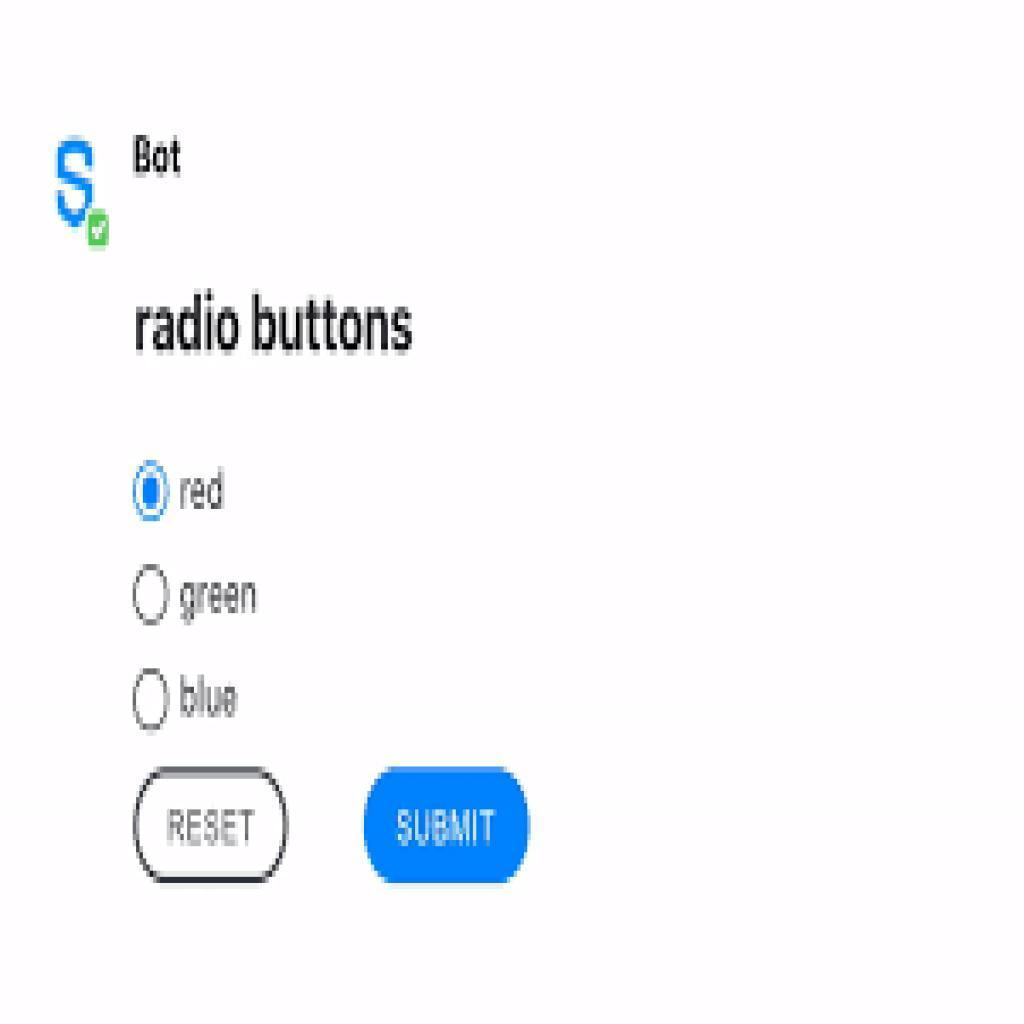button: (365, 763, 533, 888), (130, 767, 290, 891)
radio: (126, 455, 173, 526), (126, 557, 173, 627), (130, 662, 174, 736)
